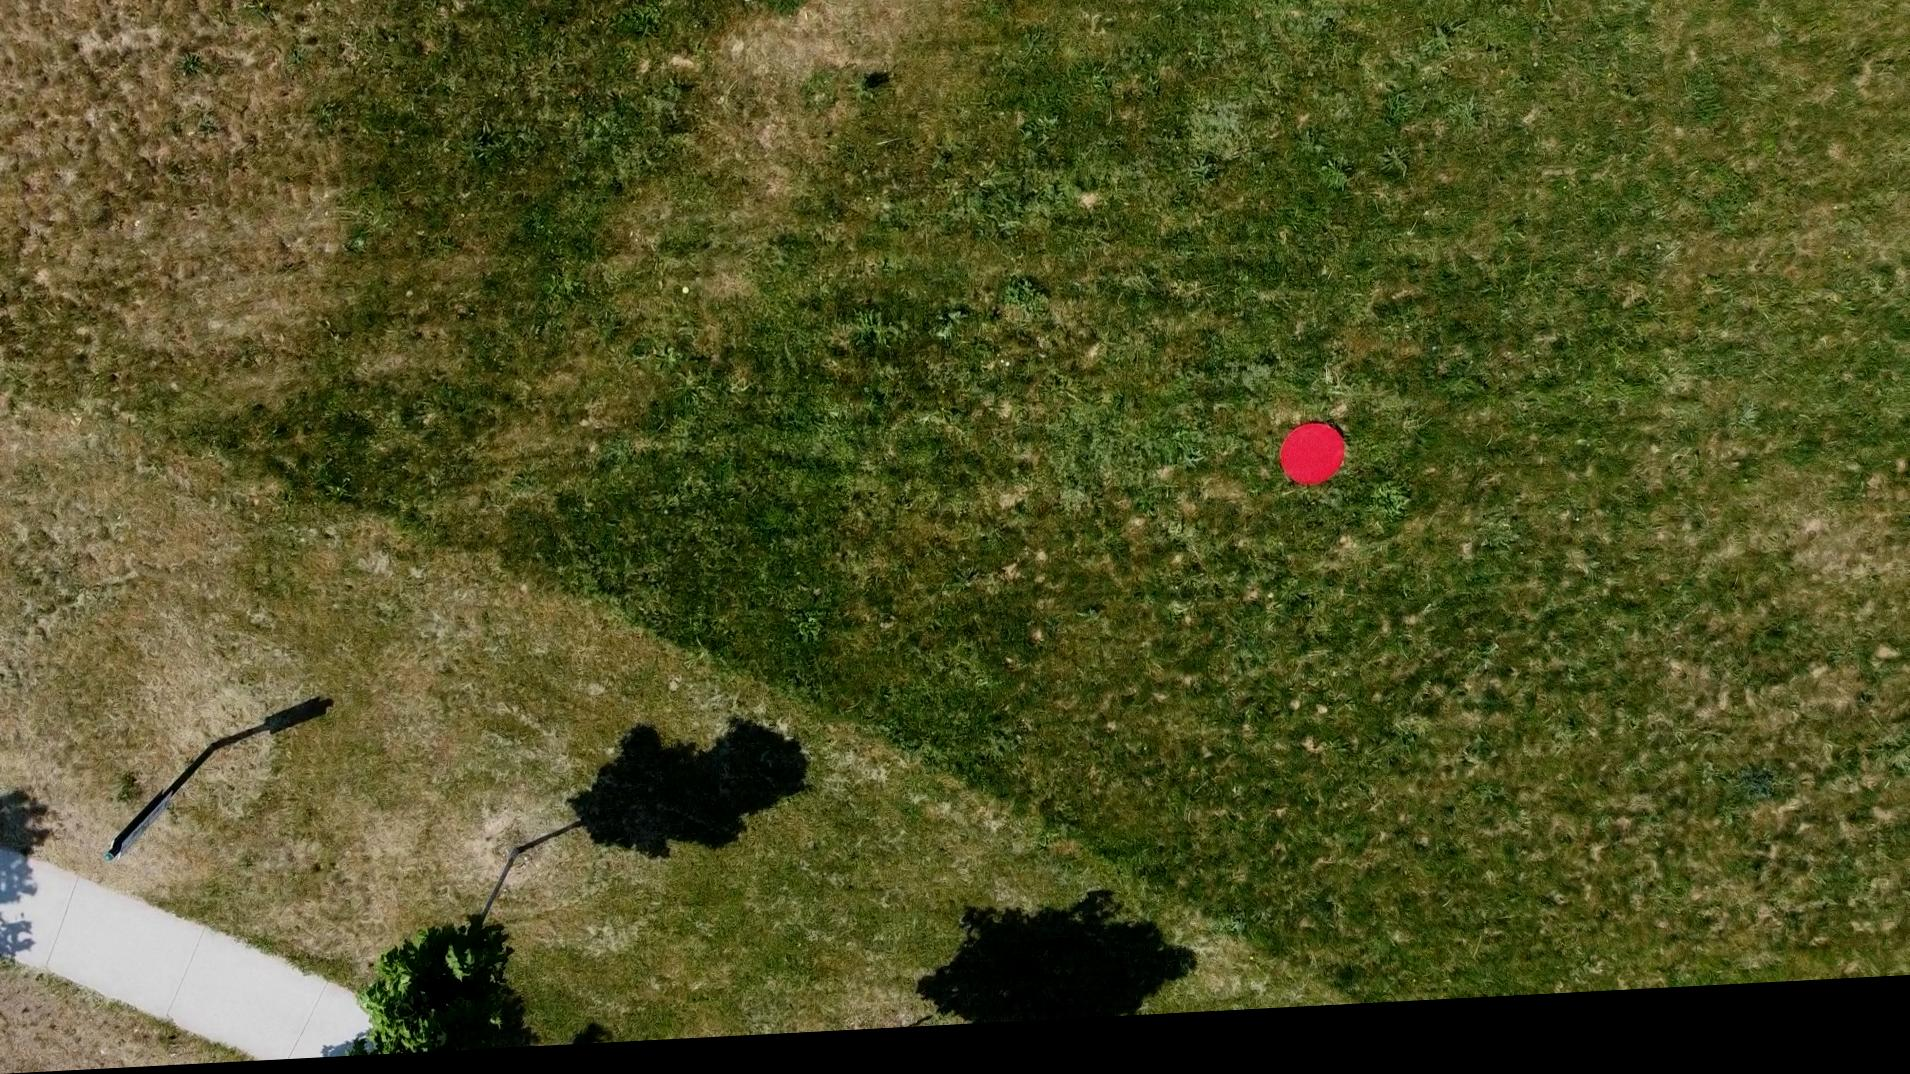Red: (1276, 431, 1349, 502)
